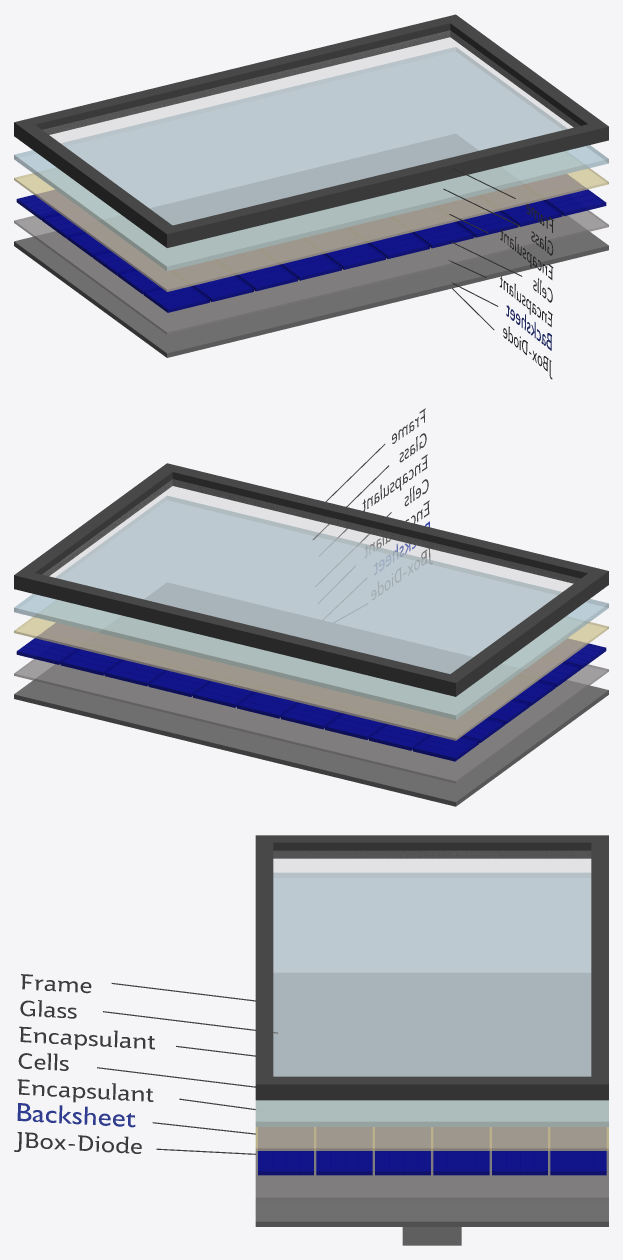
File: pv_module_backsheet.glb
3 renders of one model, top to bottom at view 1: azimuth 30°, elevation 25°; view 2: azimuth 150°, elevation 25°; view 3: azimuth 270°, elevation 25°, orthographic. The views are drawn at different scales.
Visible parts, largest first — view 1: glass, interior, backsheet, frame, eva1, cell, eva2, Text; view 2: glass, interior, backsheet, frame, eva1, cell, eva2, Text; view 3: glass, interior, backsheet, frame, eva1, cell, eva2, Text, jbox.
Boxes of the visible parts, bbox=[...] form: glass: bbox=[14, 47, 608, 271]; interior: bbox=[43, 30, 579, 224]; backsheet: bbox=[14, 134, 608, 357]; frame: bbox=[14, 14, 608, 247]; eva1: bbox=[14, 151, 608, 291]; cell: bbox=[16, 174, 606, 312]; eva2: bbox=[14, 210, 608, 334]; Text: bbox=[499, 204, 553, 379]; glass: bbox=[14, 495, 608, 719]; interior: bbox=[43, 479, 579, 673]; backsheet: bbox=[14, 583, 608, 806]; frame: bbox=[14, 463, 608, 696]; eva1: bbox=[14, 600, 608, 740]; cell: bbox=[16, 623, 606, 761]; eva2: bbox=[14, 659, 608, 783]; Text: bbox=[362, 408, 431, 599]; glass: bbox=[255, 872, 608, 1126]; interior: bbox=[273, 851, 590, 1076]; backsheet: bbox=[255, 973, 608, 1226]; frame: bbox=[255, 835, 608, 1100]; eva1: bbox=[255, 1101, 608, 1150]; cell: bbox=[258, 1127, 606, 1175]; eva2: bbox=[255, 1127, 608, 1200]; Text: bbox=[14, 974, 154, 1153]; jbox: bbox=[402, 1227, 461, 1245].
Bounding box in the file's own units: 200 × 68.68 × 202.
